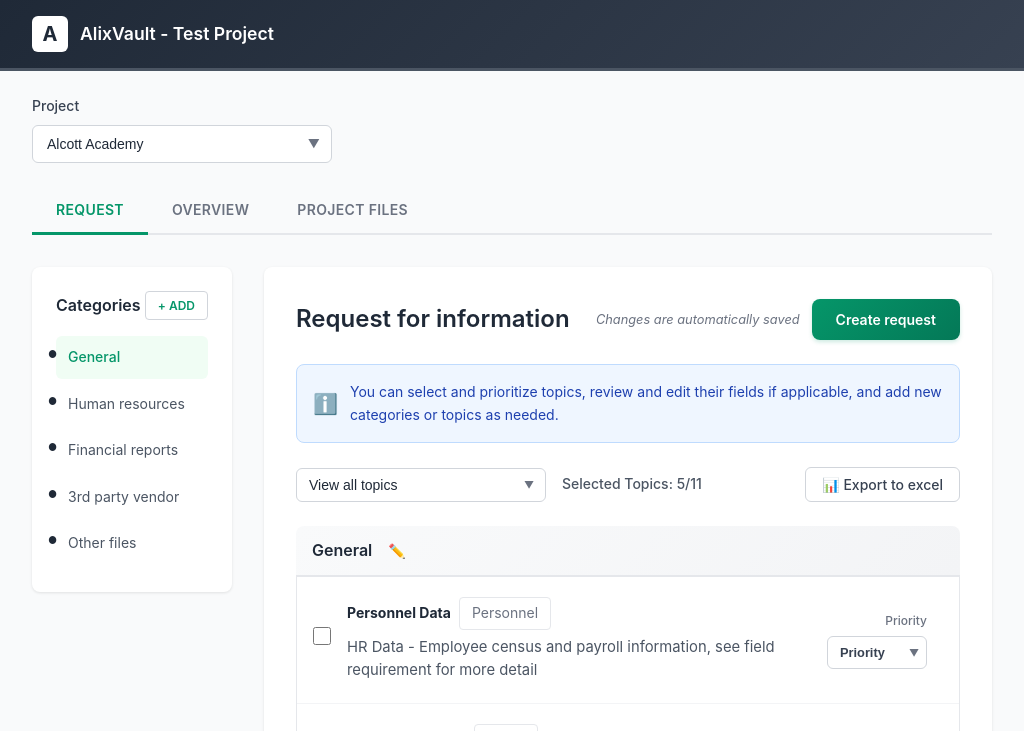
it: createDocumentRequest Integration Test › should successfully create a document request with selected topics
Click the button "Create request" at x=886, y=320, box [812,299,960,340]
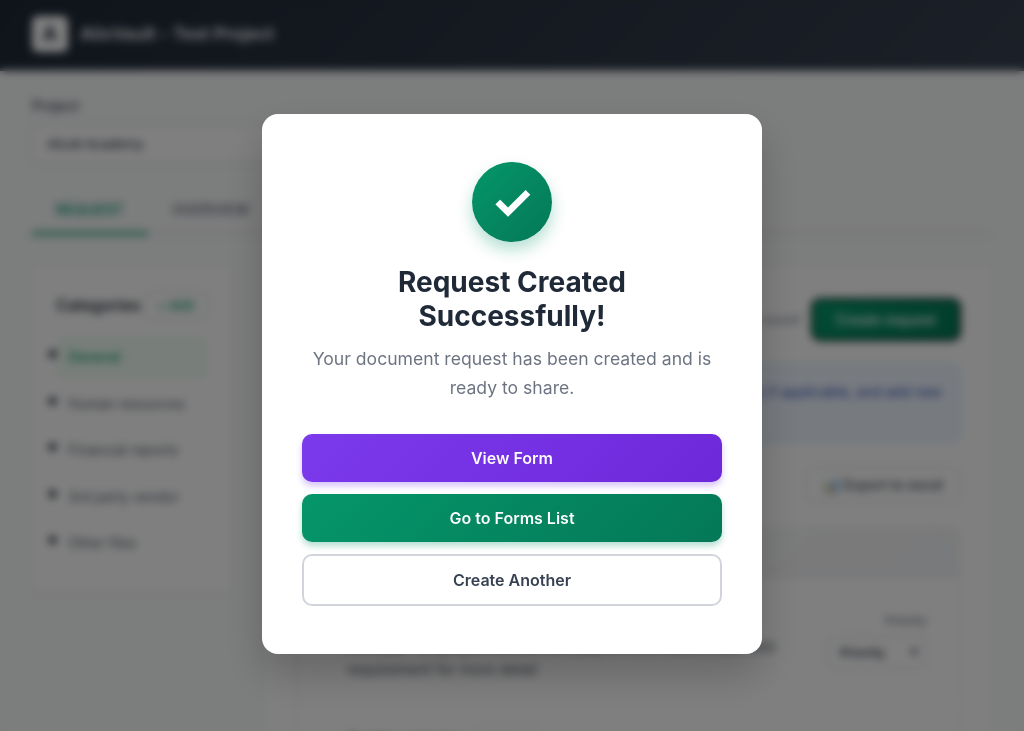
Expected: the heading "Request Created Successfully!" is shown, [398,265,626,333]
